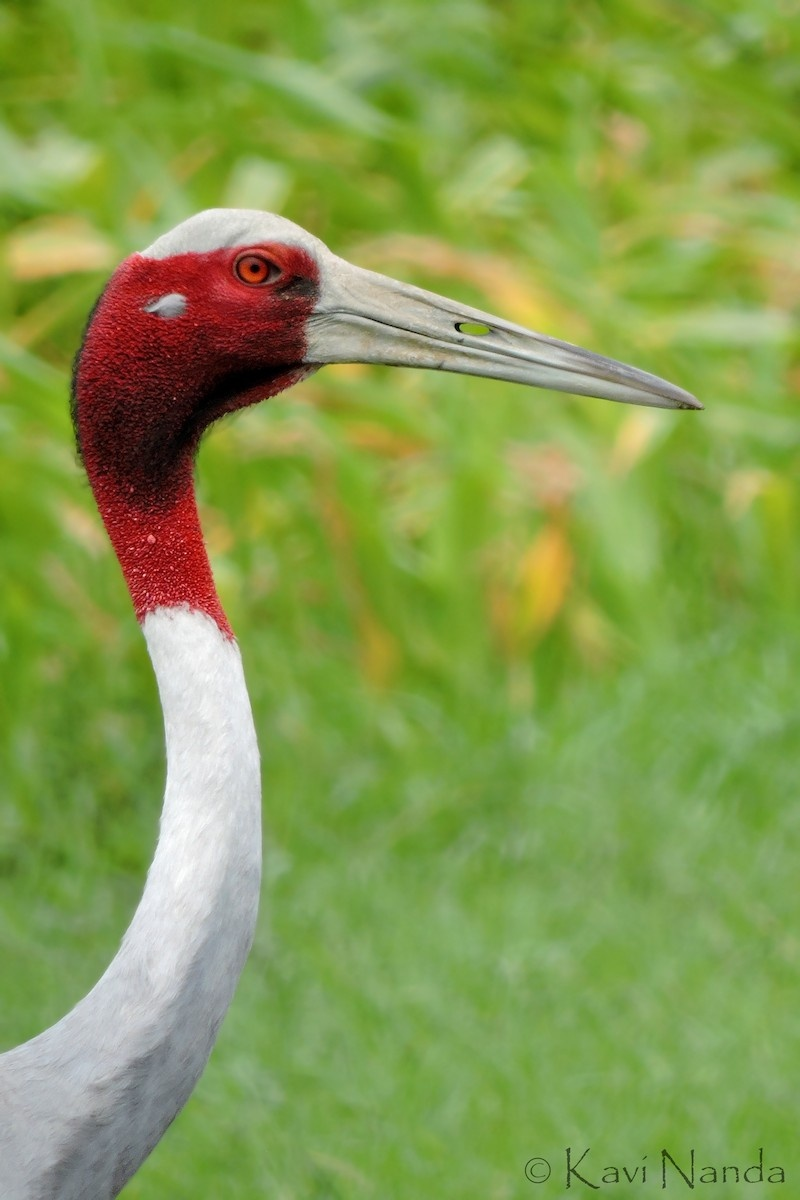crane: (1, 193, 714, 1200)
